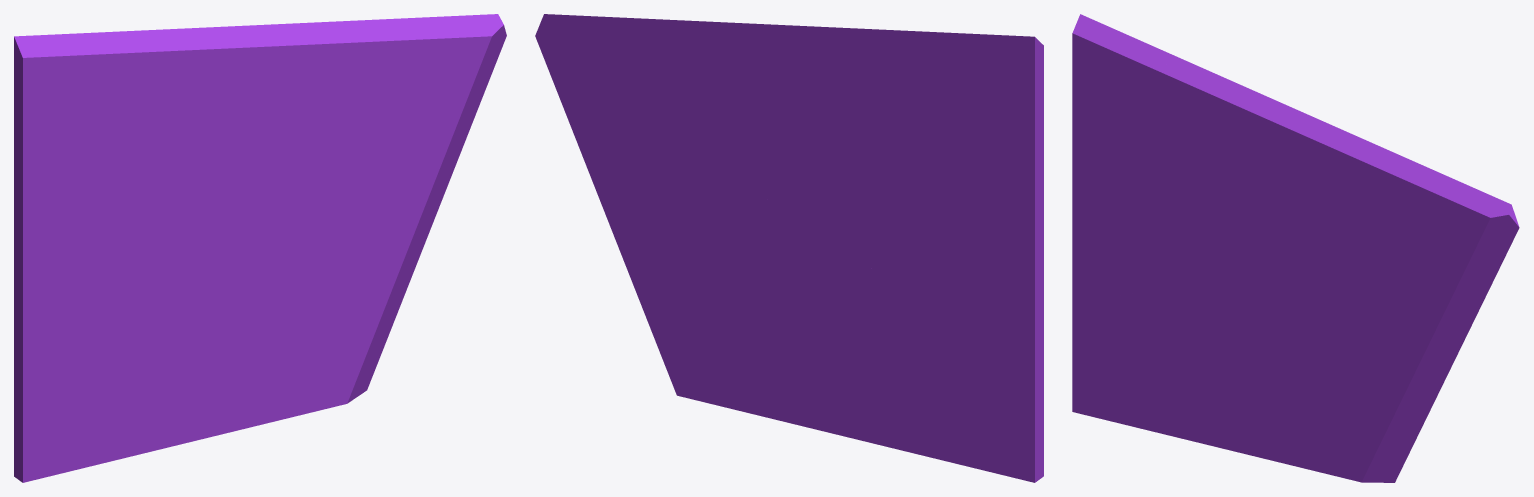
The model's file is Glass_10_1_chunks.fbx.
3 renders of one model, left to right at view 1: azimuth 30°, elevation 25°; view 2: azimuth 150°, elevation 25°; view 3: azimuth 330°, elevation 25°, orthographic. The views are drawn at different scales.
Parts seen in each view (by area): view 1: Glass_10_1_5, Glass_10_1_4, Glass_10_1_7, Glass_10_1_9, Glass_10_1_2, Glass_10_1_10, Glass_10_1_13, Glass_10_1_11, Glass_10_1_3, Glass_10_1_15, Glass_10_1_12, Glass_10_1_14 (+1 smaller); view 2: Glass_10_1_5, Glass_10_1_2, Glass_10_1_4, Glass_10_1_7, Glass_10_1_0, Glass_10_1_13, Glass_10_1_15, Glass_10_1_12, Glass_10_1_1, Glass_10_1_9, Glass_10_1_3, Glass_10_1_11 (+4 smaller); view 3: Glass_10_1_5, Glass_10_1_4, Glass_10_1_7, Glass_10_1_13, Glass_10_1_9, Glass_10_1_10, Glass_10_1_2, Glass_10_1_11, Glass_10_1_15, Glass_10_1_3, Glass_10_1_12, Glass_10_1_14 (+1 smaller).
Boxes of the visible parts, x1,y1,x2,y2 form: Glass_10_1_5: (14, 252, 225, 482); Glass_10_1_4: (146, 300, 402, 452); Glass_10_1_7: (189, 200, 403, 325); Glass_10_1_9: (171, 42, 341, 213); Glass_10_1_2: (14, 174, 145, 368); Glass_10_1_10: (14, 32, 187, 175); Glass_10_1_13: (370, 71, 492, 297); Glass_10_1_11: (115, 22, 340, 113); Glass_10_1_3: (14, 43, 163, 221); Glass_10_1_15: (340, 14, 506, 115); Glass_10_1_12: (290, 129, 382, 263); Glass_10_1_14: (313, 21, 402, 141); Glass_10_1_5: (831, 259, 1043, 482); Glass_10_1_2: (903, 175, 1043, 374); Glass_10_1_4: (641, 304, 903, 450); Glass_10_1_7: (640, 201, 856, 310); Glass_10_1_0: (815, 40, 1035, 208); Glass_10_1_13: (549, 72, 675, 301); Glass_10_1_15: (535, 14, 704, 128); Glass_10_1_12: (662, 102, 767, 273); Glass_10_1_1: (767, 148, 904, 289); Glass_10_1_9: (722, 35, 872, 170); Glass_10_1_3: (935, 43, 1043, 191); Glass_10_1_11: (718, 22, 916, 89); Glass_10_1_5: (1072, 279, 1252, 438); Glass_10_1_4: (1182, 360, 1426, 482); Glass_10_1_7: (1221, 270, 1426, 417); Glass_10_1_13: (1382, 249, 1506, 416); Glass_10_1_9: (1204, 154, 1356, 275); Glass_10_1_10: (1072, 14, 1219, 202); Glass_10_1_2: (1072, 161, 1182, 302); Glass_10_1_11: (1166, 58, 1358, 157); Glass_10_1_15: (1370, 142, 1519, 253); Glass_10_1_3: (1072, 74, 1197, 232); Glass_10_1_12: (1310, 223, 1392, 367); Glass_10_1_14: (1331, 137, 1410, 263).
Bounding box in the file's own units: 877 × 748 × 27.2.
